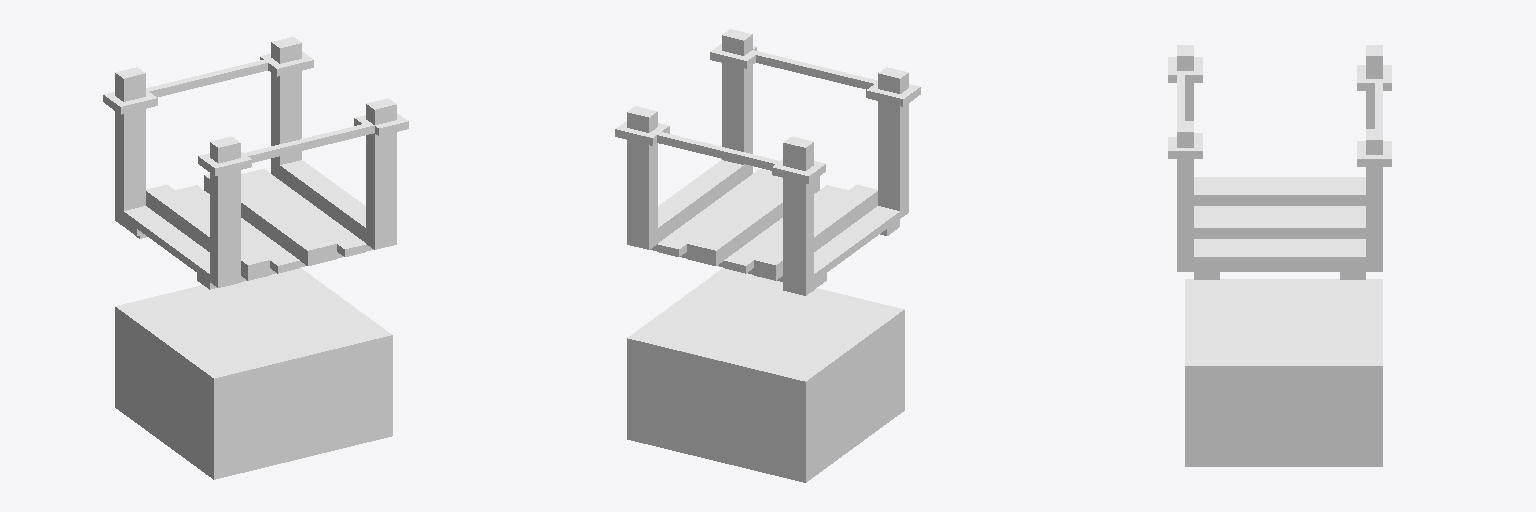
The model's file is tapak5 jembatan.obj.
3 renders of one model, left to right at view 1: azimuth 30°, elevation 25°; view 2: azimuth 150°, elevation 25°; view 3: azimuth 270°, elevation 25°, orthographic.
Size of the model in its own units: 26 by 43 by 26.